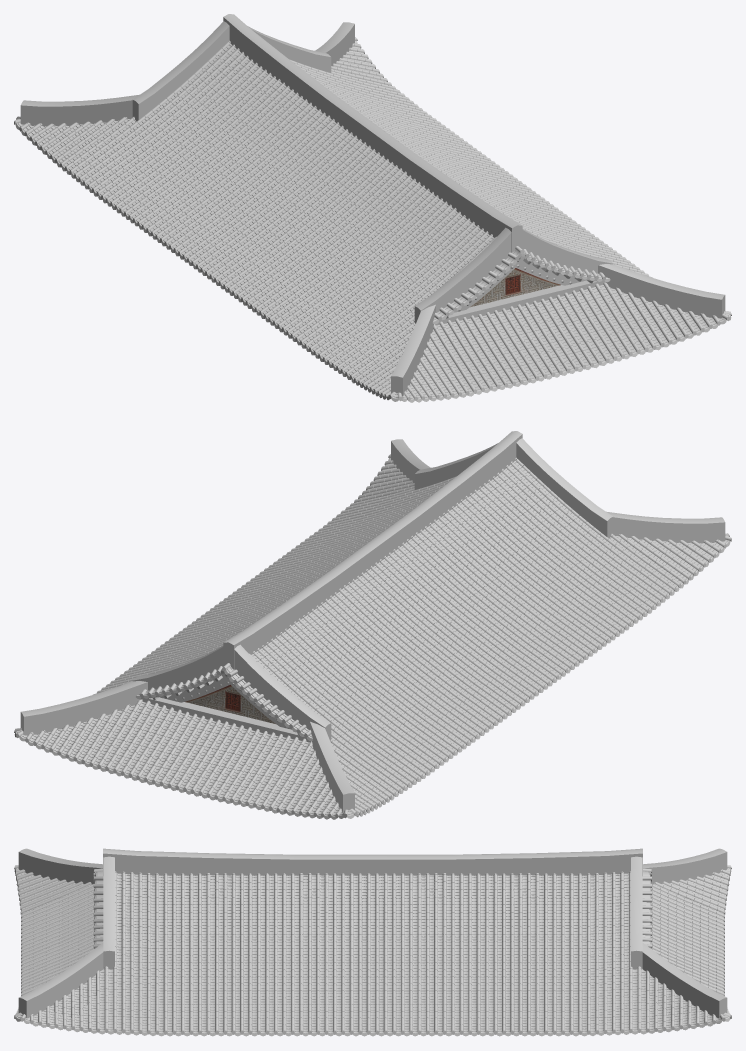
Rendered from SM_Roof05B.fbx.
The picture shows the model from 3 angles, top to bottom: view 1: azimuth 30°, elevation 25°; view 2: azimuth 150°, elevation 25°; view 3: azimuth 270°, elevation 25°; orthographic projection. The views are drawn at different scales.
Parts seen in each view (by area): view 1: SM_Roof05B; view 2: SM_Roof05B; view 3: SM_Roof05B.
Boxes of the visible parts, <box> form: SM_Roof05B: <box>14,14,731,402</box>; SM_Roof05B: <box>14,431,731,819</box>; SM_Roof05B: <box>14,848,731,1036</box>.
Bounding box in the file's own units: 1471 × 2854 × 490.
